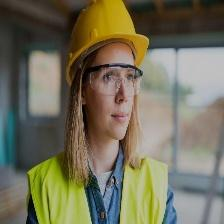Person: (26, 48, 173, 224)
helmet: (67, 1, 138, 70)
vest: (27, 152, 169, 224)
